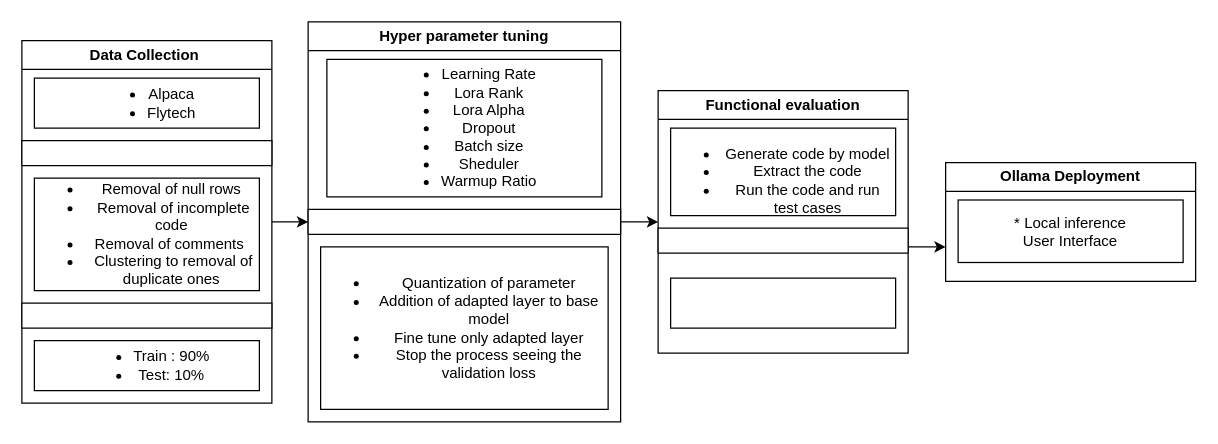
This 1218x444 diagram has some shape labels left out. The shapes that lost their labels are listed below. From the top down, each one's centre as x and y in pixels, then its label:
At point 146,152: "Data Processing".
At point 464,221: "Fine-Tuning".
At point 782,240: "Quantitative evaluation".
At point 146,315: "Final Datasets split".
At point 782,302: "BLEU Code BLEU".
